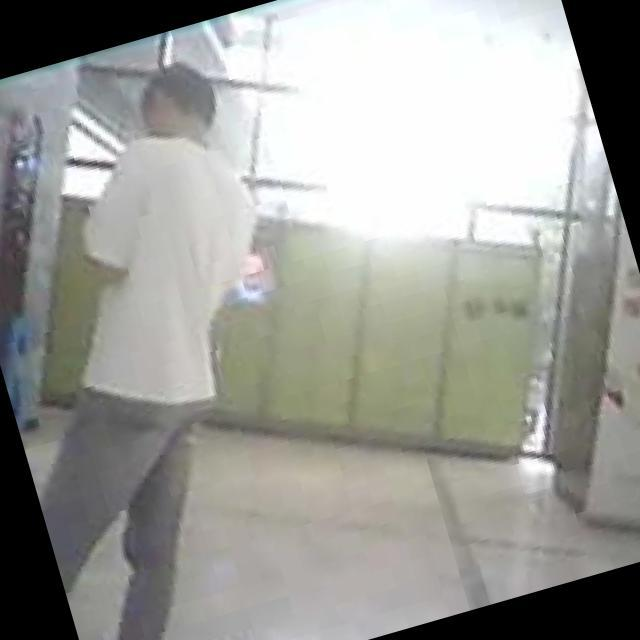person: (0, 55, 379, 640)
